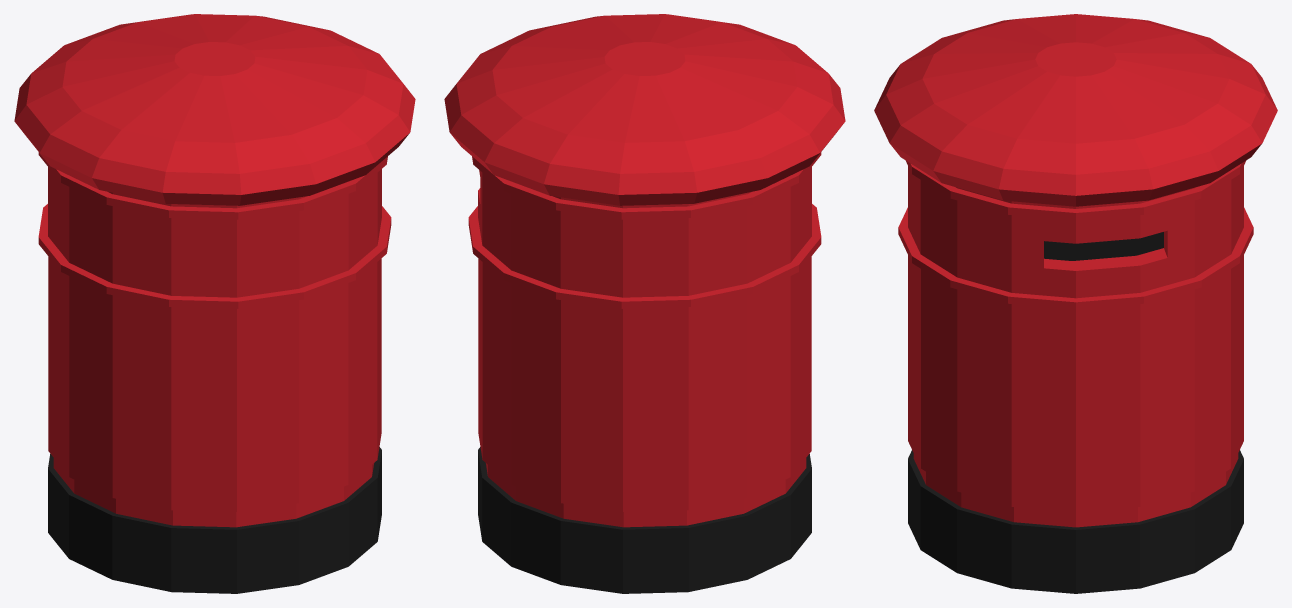
Rendered from PostBox.fbx.
3 renders of one model, left to right at view 1: azimuth 30°, elevation 25°; view 2: azimuth 150°, elevation 25°; view 3: azimuth 270°, elevation 25°, orthographic.
Visible parts, largest first — view 1: Circle.001; view 2: Circle.001; view 3: Circle.001.
Boxes of the visible parts, x1,y1,x2,y2 form: Circle.001: (14, 14, 415, 593); Circle.001: (444, 14, 845, 593); Circle.001: (874, 14, 1277, 593).
Size of the model in its own units: 240 by 304 by 240.
